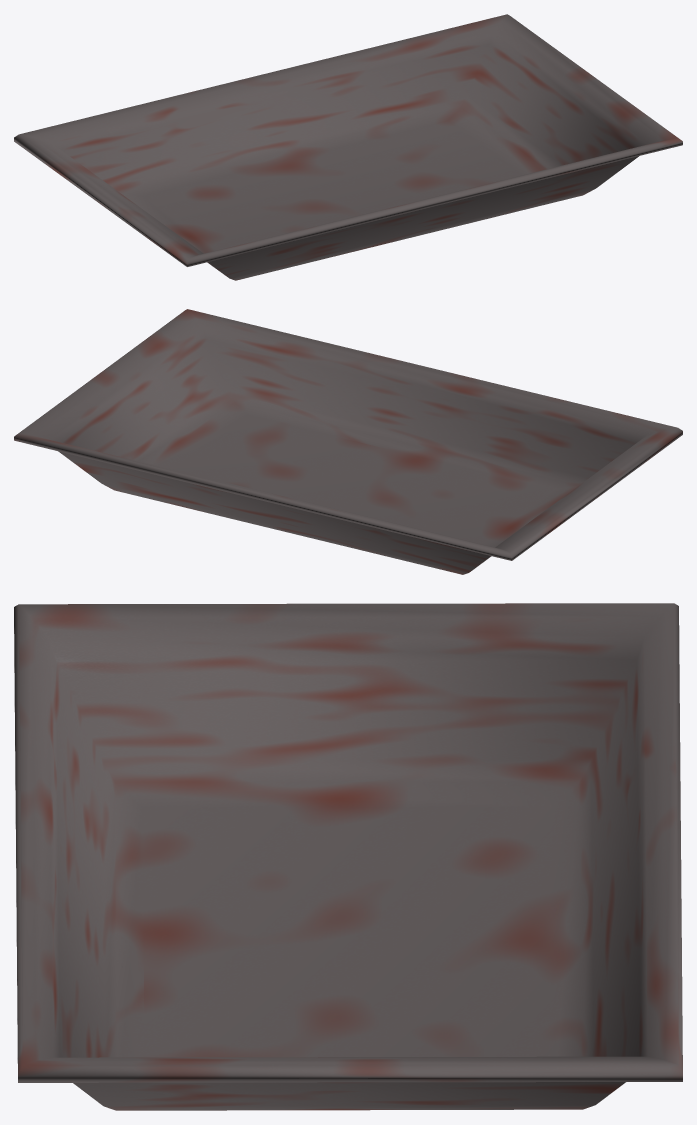
The model's file is tray.fbx.
3 views of the same model, one above another, from view 1: azimuth 30°, elevation 25°; view 2: azimuth 150°, elevation 25°; view 3: azimuth 270°, elevation 25° (orthographic). The views are drawn at different scales.
Visible parts, largest first — view 1: 立方体.002; view 2: 立方体.002; view 3: 立方体.002.
Boxes of the visible parts, x1,y1,x2,y2 form: 立方体.002: [14, 14, 682, 280]; 立方体.002: [14, 309, 682, 574]; 立方体.002: [14, 603, 682, 1110].
Size of the model in its own units: 276 by 32.4 by 166.
1 material, 1 textured.
